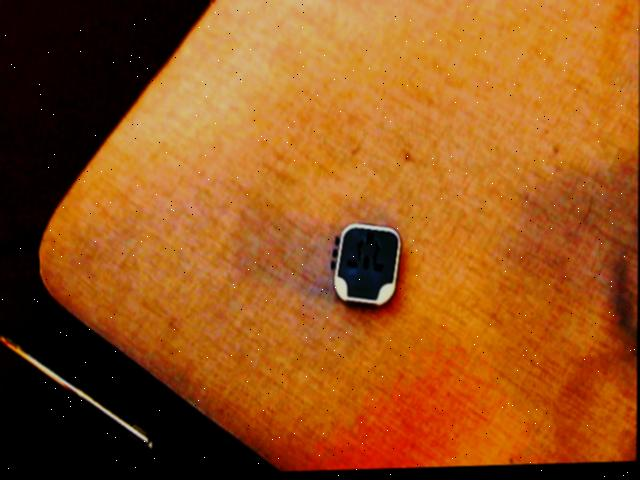adapter: (331, 225, 402, 310)
